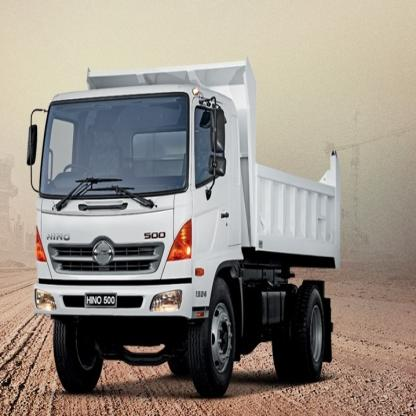dump_truck: (23, 55, 345, 394)
